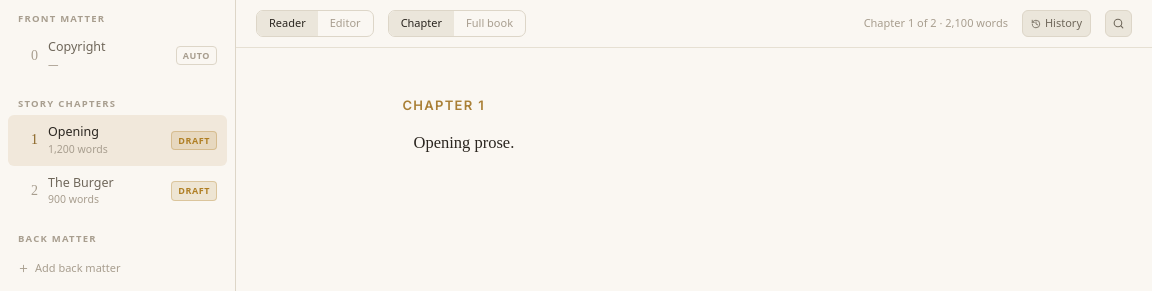
Test: ManuscriptView › loads another chapter when selected in the rail
Check: the text "Opening prose." is shown, box [414,132,514,152]
Step 1. Click the text "The Burger" → (81, 182), box [48,174,114,190]
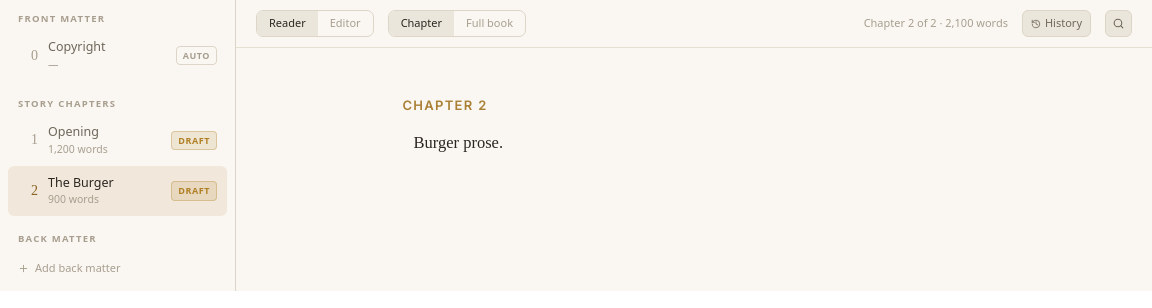
Check: the text "Burger prose." is shown, box [414,132,503,152]
Check: the text "Chapter 2 of 2 · 2,100 words" is shown, box [864,15,1008,32]
